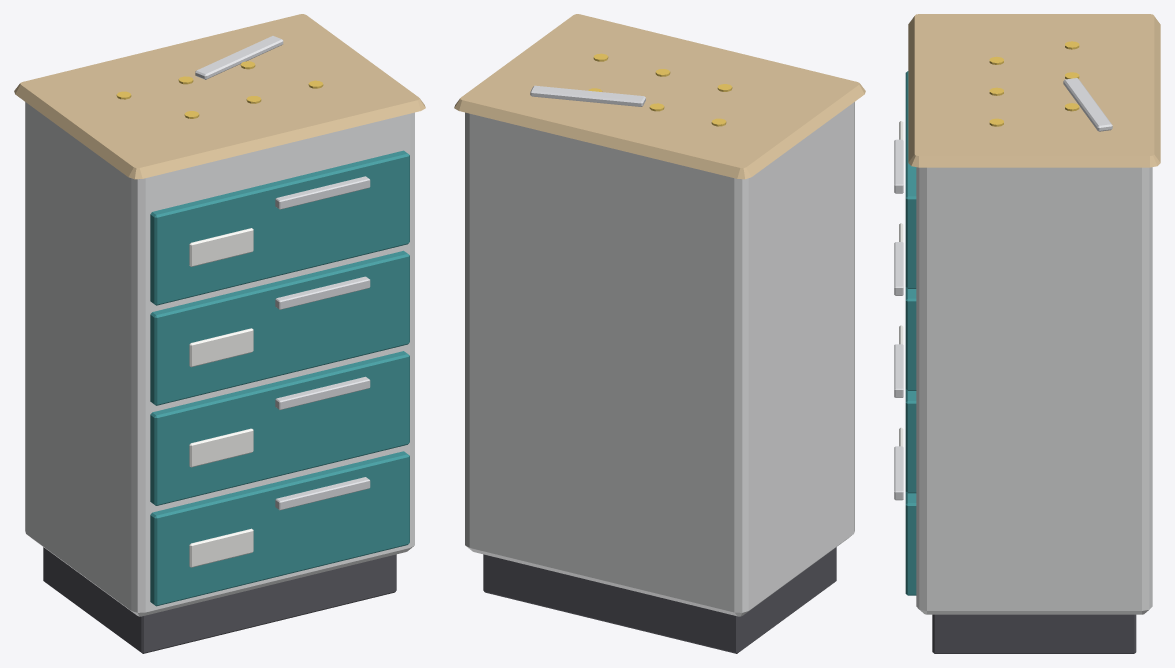
Rendered from dry-cleaners-and-alterations-shop-notions-drawer-unit-66f1b9c5__34974.glb.
3 views of the same model, side by side, from view 1: azimuth 30°, elevation 25°; view 2: azimuth 150°, elevation 25°; view 3: azimuth 270°, elevation 25° (orthographic).
Parts seen in each view (by area): view 1: notions-drawer-unit, notions-drawer/accent, notions-drawer/chalk, notions-drawer/metal; view 2: notions-drawer-unit; view 3: notions-drawer-unit, notions-drawer/accent, notions-drawer/metal.
Part boxes in pixels (box(x1,y1,x2,y2)): notions-drawer-unit: box(14, 14, 425, 653); notions-drawer/accent: box(150, 150, 409, 305); notions-drawer/chalk: box(189, 228, 253, 266); notions-drawer/metal: box(275, 176, 370, 209); notions-drawer-unit: box(454, 14, 865, 653); notions-drawer-unit: box(894, 14, 1160, 653); notions-drawer/accent: box(905, 71, 916, 288); notions-drawer/metal: box(894, 139, 903, 193).
Size of the model in its own units: 0.65 by 1.05 by 0.4958.
